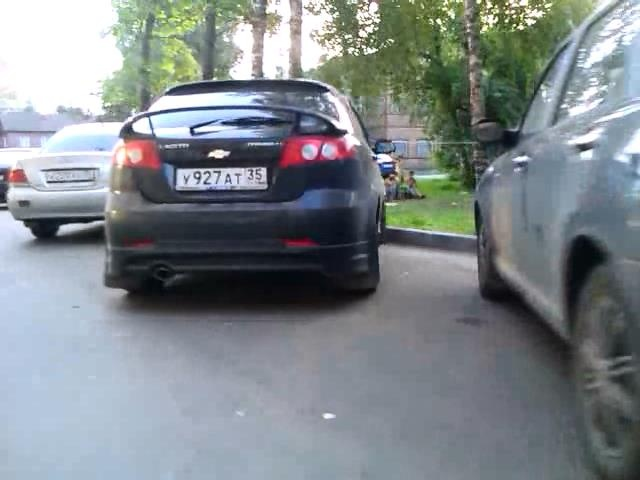car license plate: (172, 165, 271, 192), (44, 166, 97, 184)
